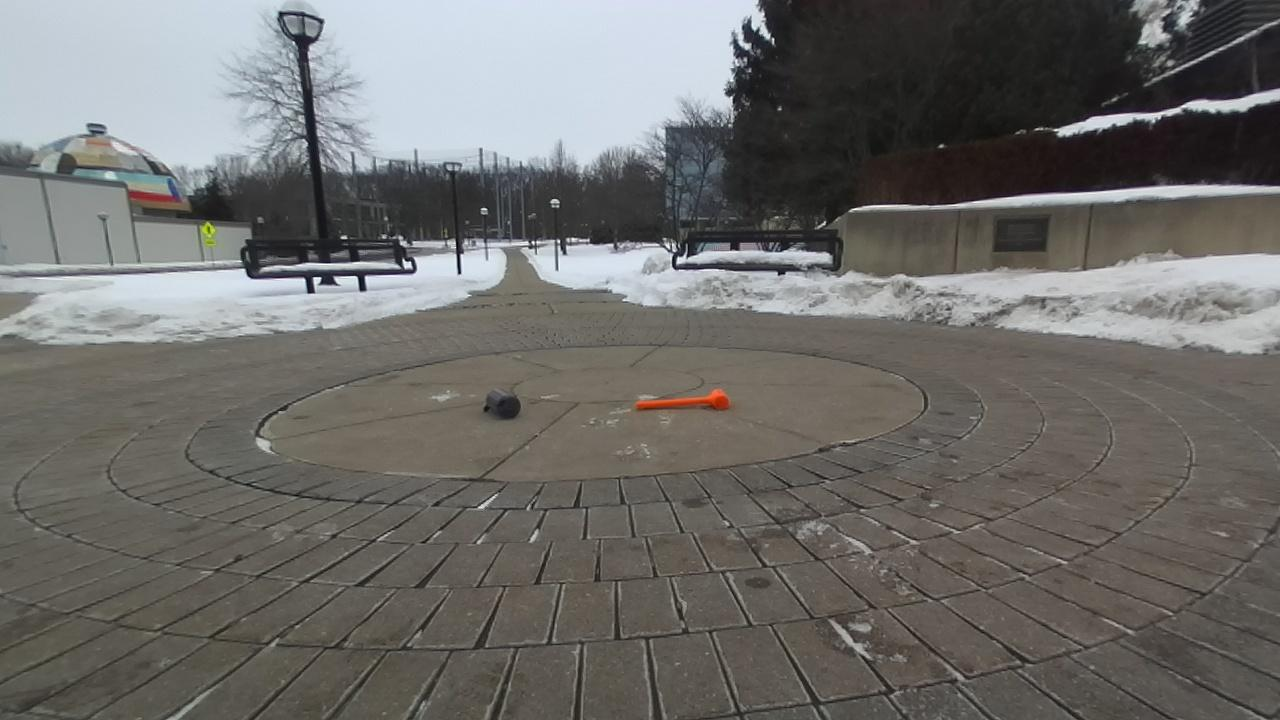bottle: (484, 389, 520, 418)
mallet: (637, 388, 730, 409)
